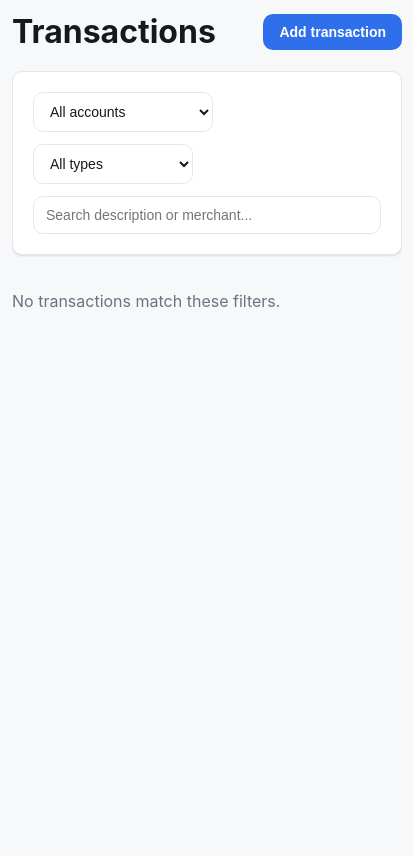
Test: TransactionsPage › queues an offline transaction as a visible pending-sync row instead of failing
Expected: the text "No transactions match these filters." is shown, [12,291,280,311]
Click the button "Add transaction" at (333, 32), box [263,14,402,50]
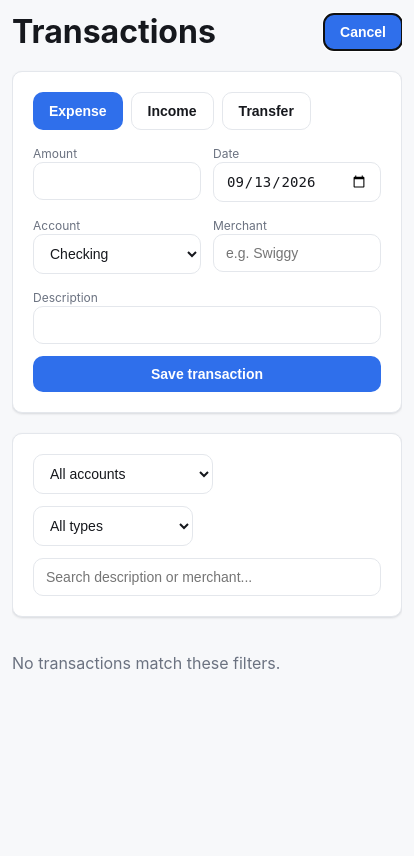
Type "250" into the number field at (117, 181), box [33,162,201,200]
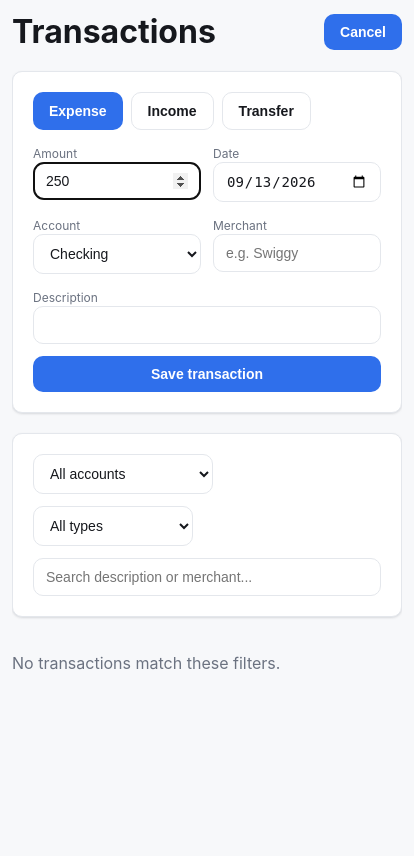
Type "Offline grocery run" into the 2nd field at (207, 325), box [33,306,381,344]
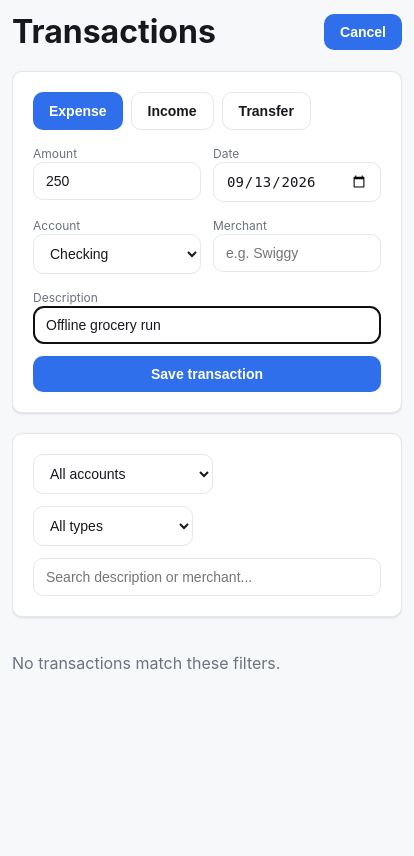
Click the button "Save transaction" at (207, 374), box [33,356,381,392]
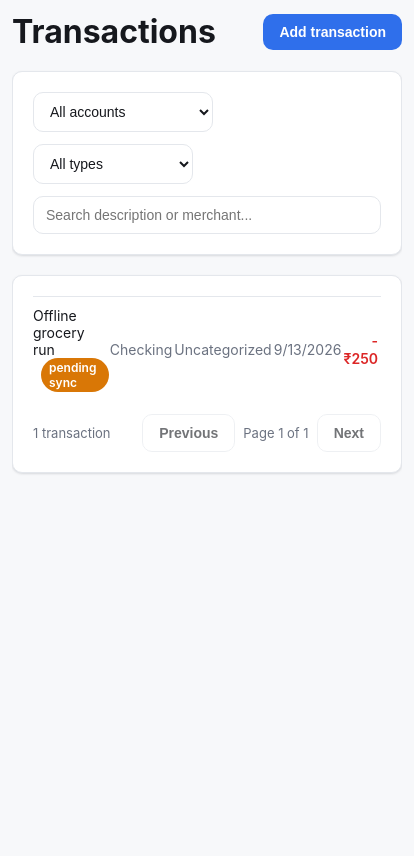
Expected: the text "pending sync" is shown, [41,358,109,392]
Expected: the text "Offline grocery run" is shown, [33,307,84,358]
